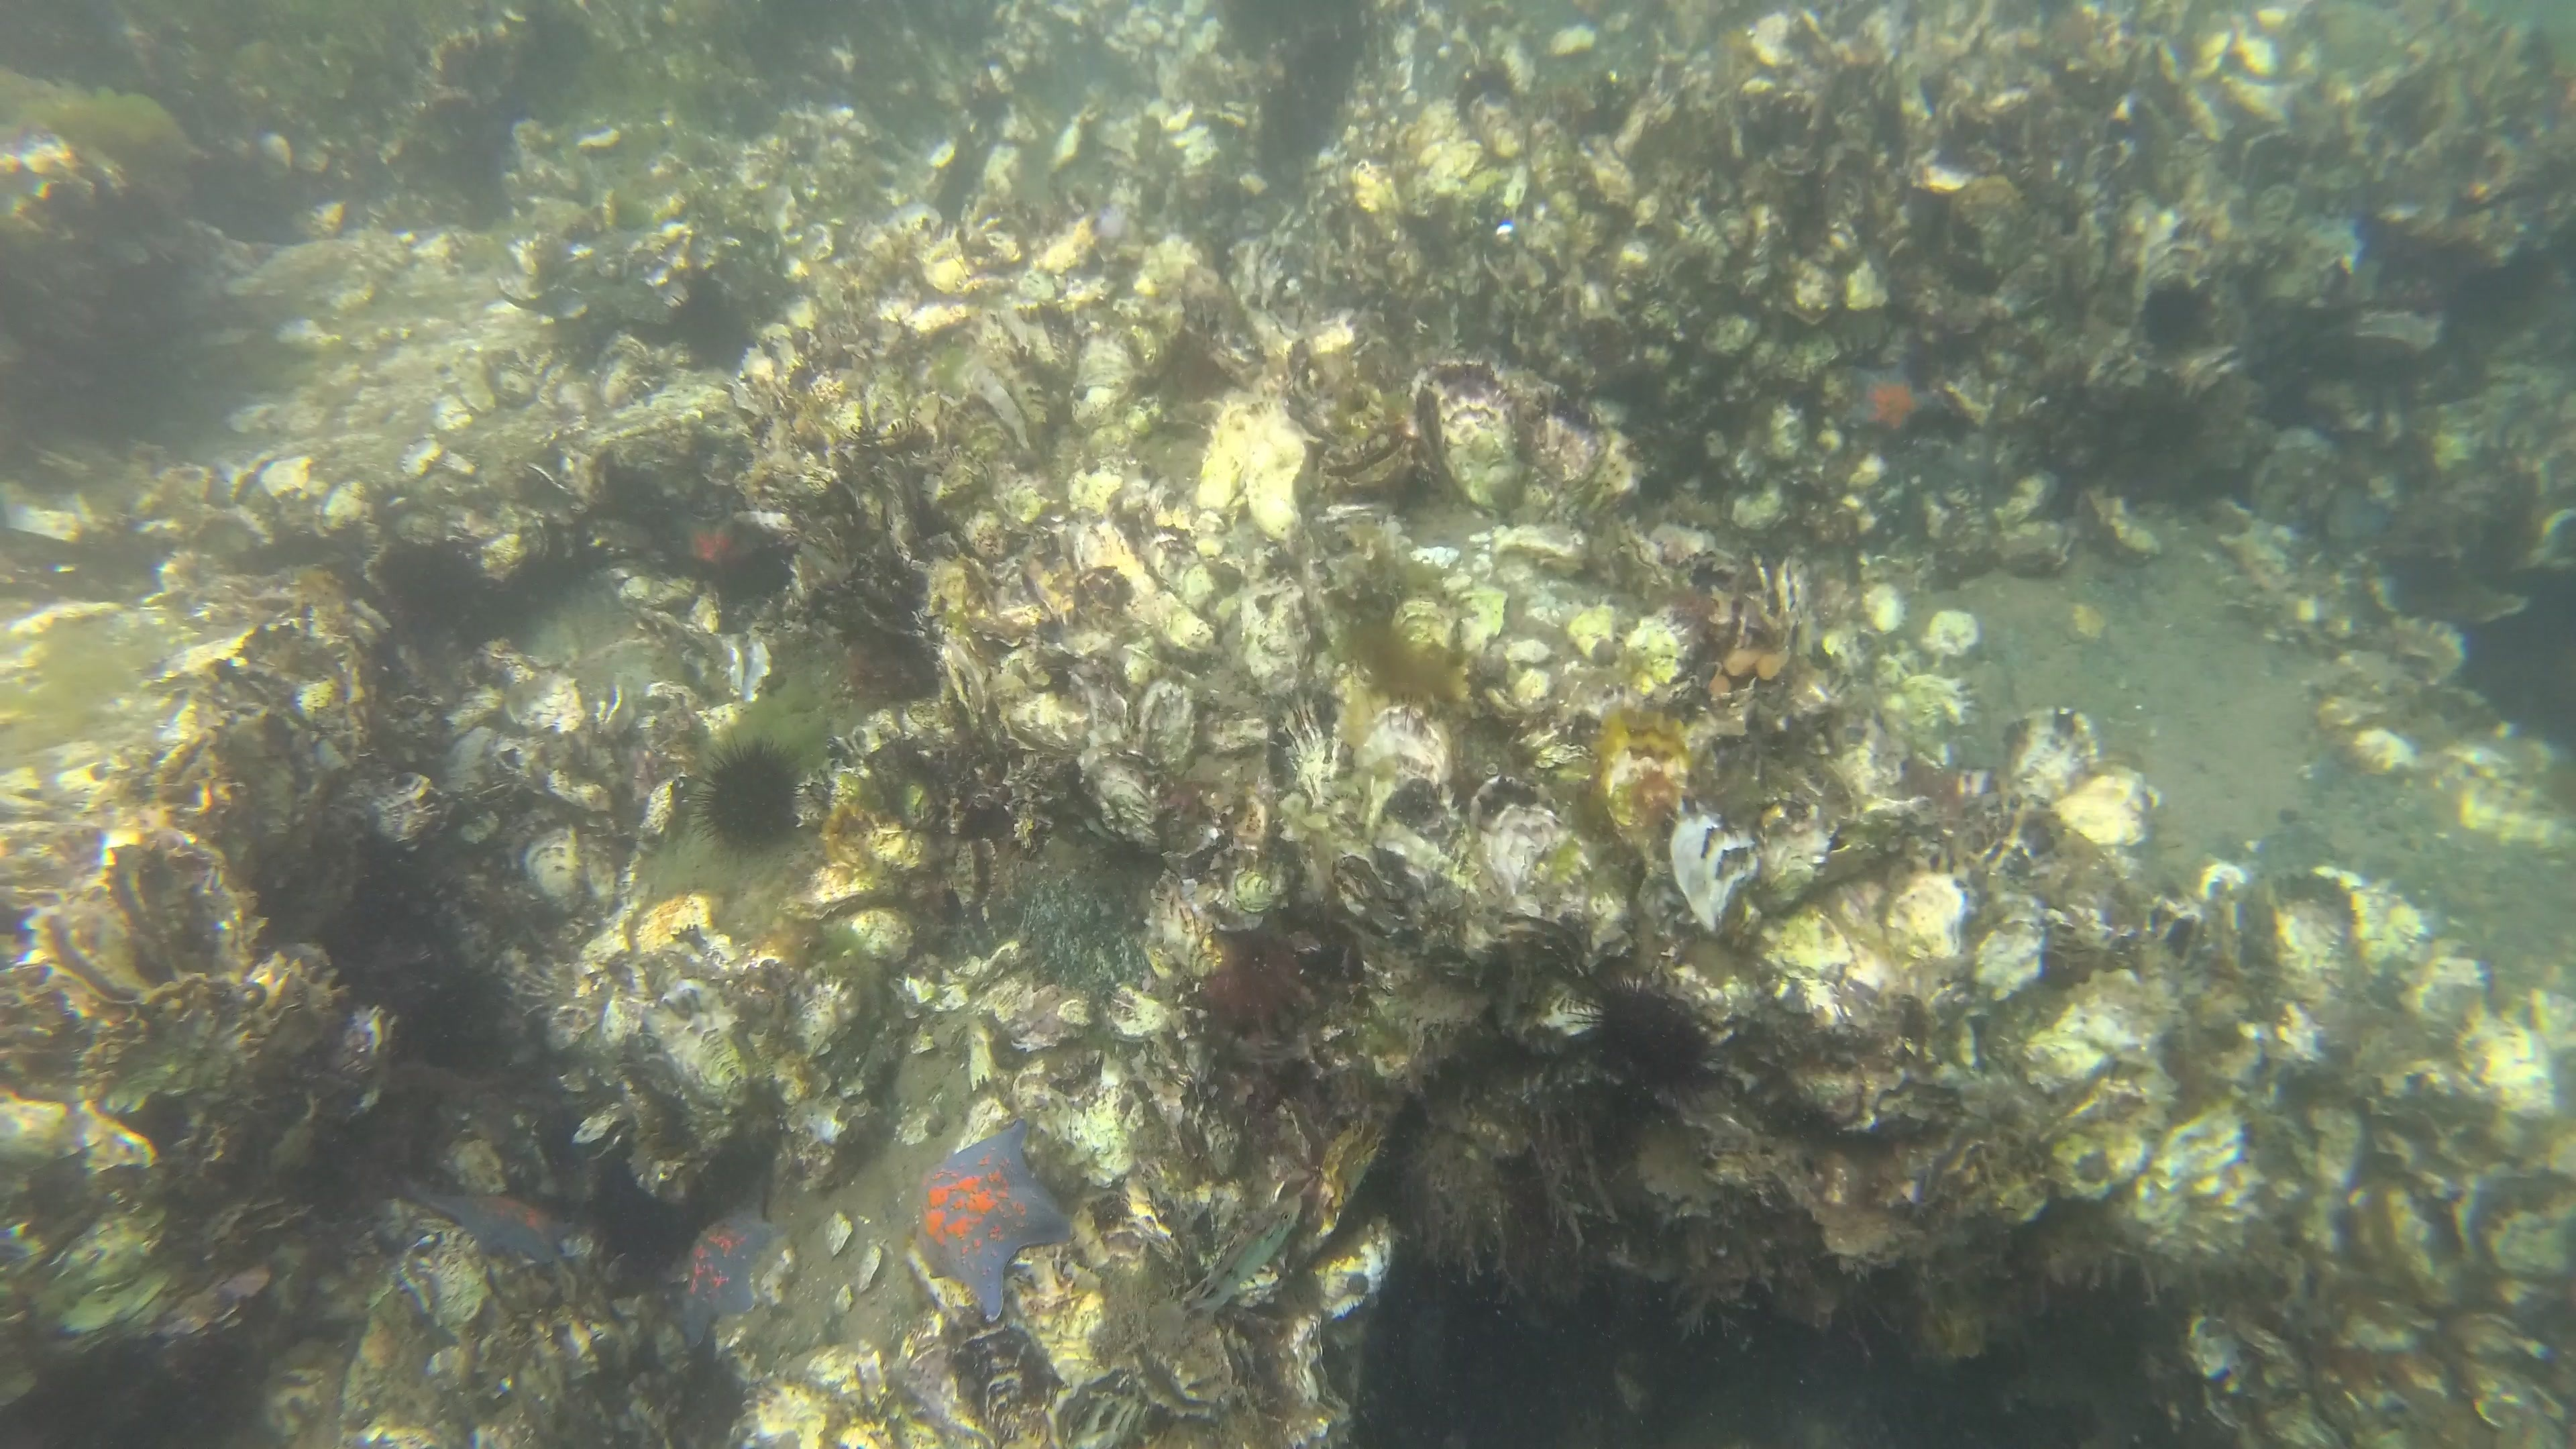echinus: (1576, 971, 1706, 1108), (695, 741, 810, 862), (380, 540, 481, 639), (667, 292, 743, 366), (2139, 280, 2208, 350)
starfish: (915, 1127, 1063, 1322), (683, 1168, 784, 1336), (410, 1189, 571, 1269), (1845, 356, 1937, 441), (663, 511, 757, 570)
